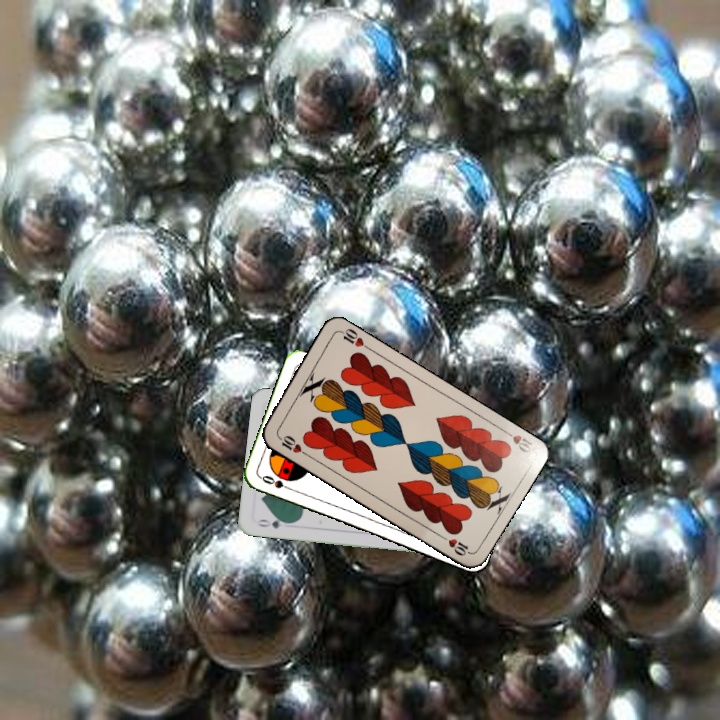GO: (253, 514, 293, 531)
H10: (498, 425, 537, 455), (273, 431, 310, 458)
SO: (257, 471, 296, 494)
